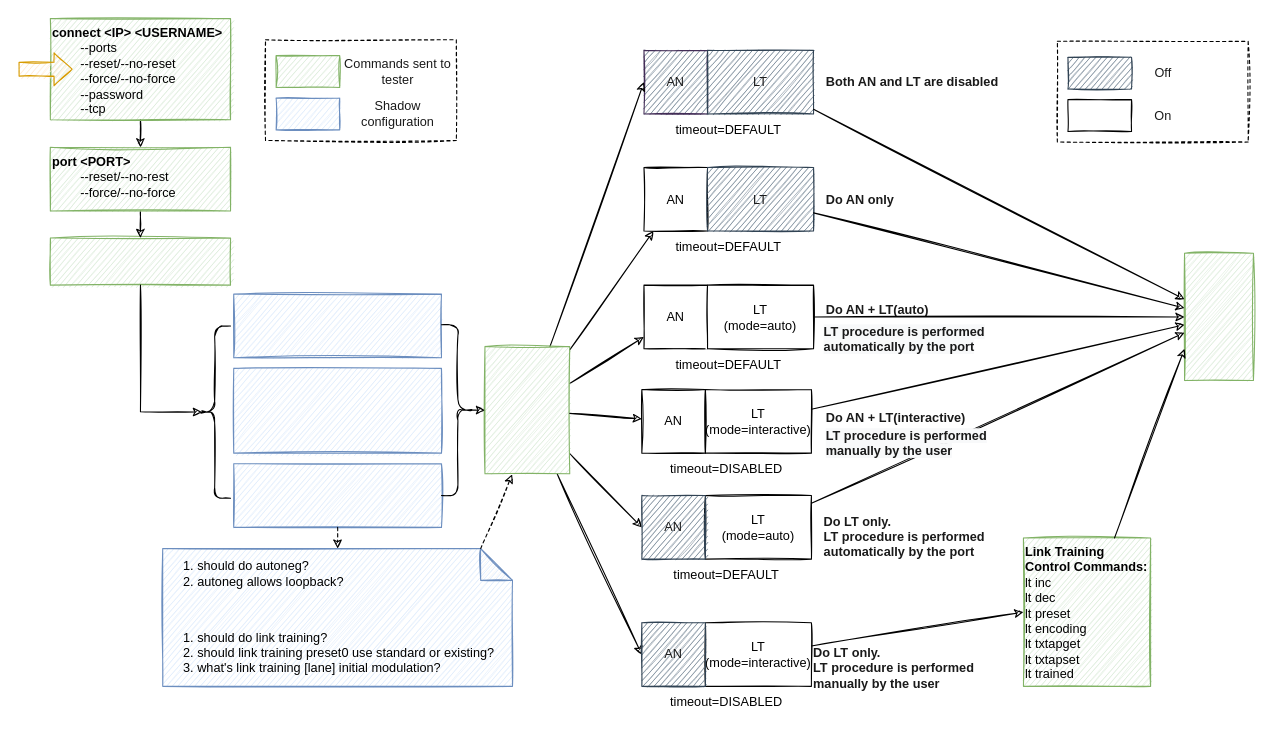
Image size: 1272x737. Some labels were removed from this diagram. The shapes that lost their labels are listed below. From the top down, each one's centre as x and y in pixels, then its label:
At point (140, 261): "recovery --on/--off".
At point (337, 325): "an config --on/--off --loopback/--no-loopback".
At point (1218, 316): "anlt log".
At point (337, 410): "lt config --mode --on/--off --preset0/--no-preset0".
At point (527, 409): "anlt do".
At point (337, 495): "lt im <SERDES> <ENCODING> lt alg <SERDES> <ALGORITHM>".
